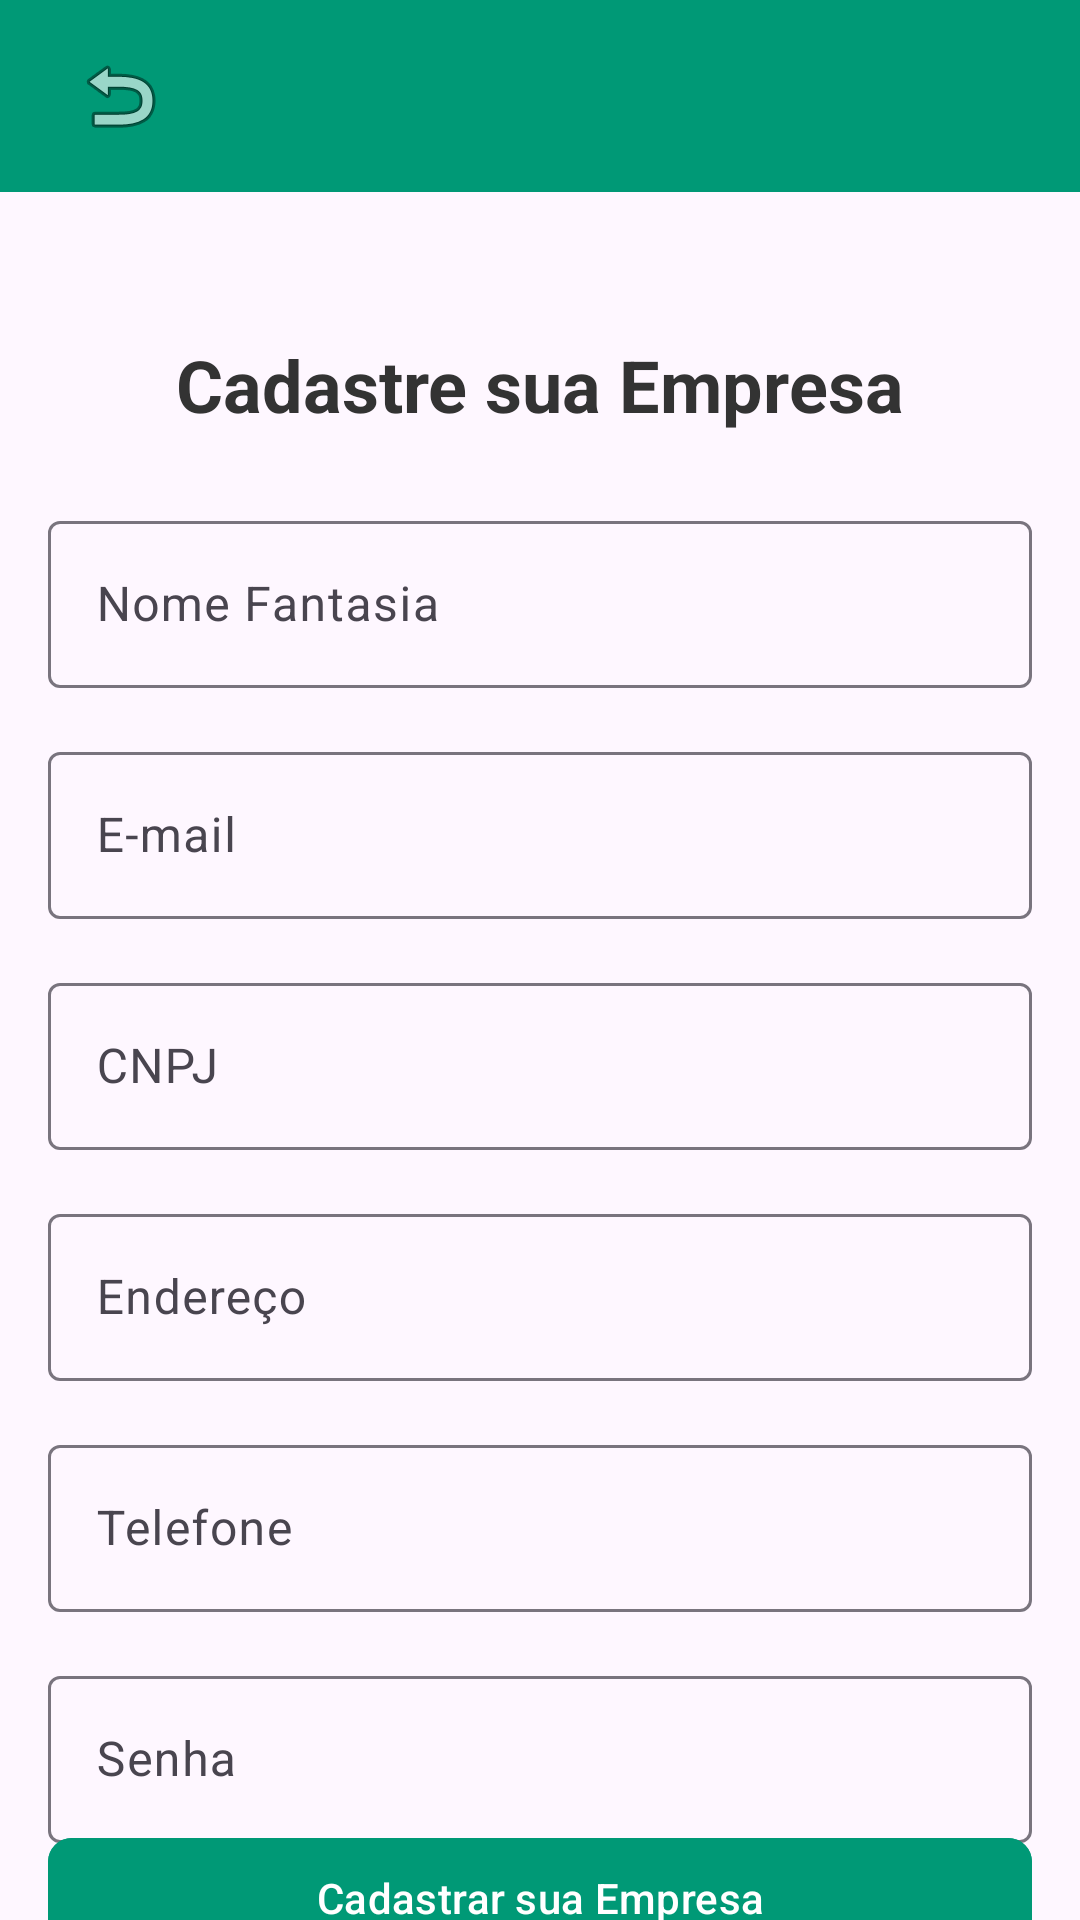

Screen size 1080 × 1920. Icon name, then its center in pixels as (x,y):
Voltar: (121,97)
